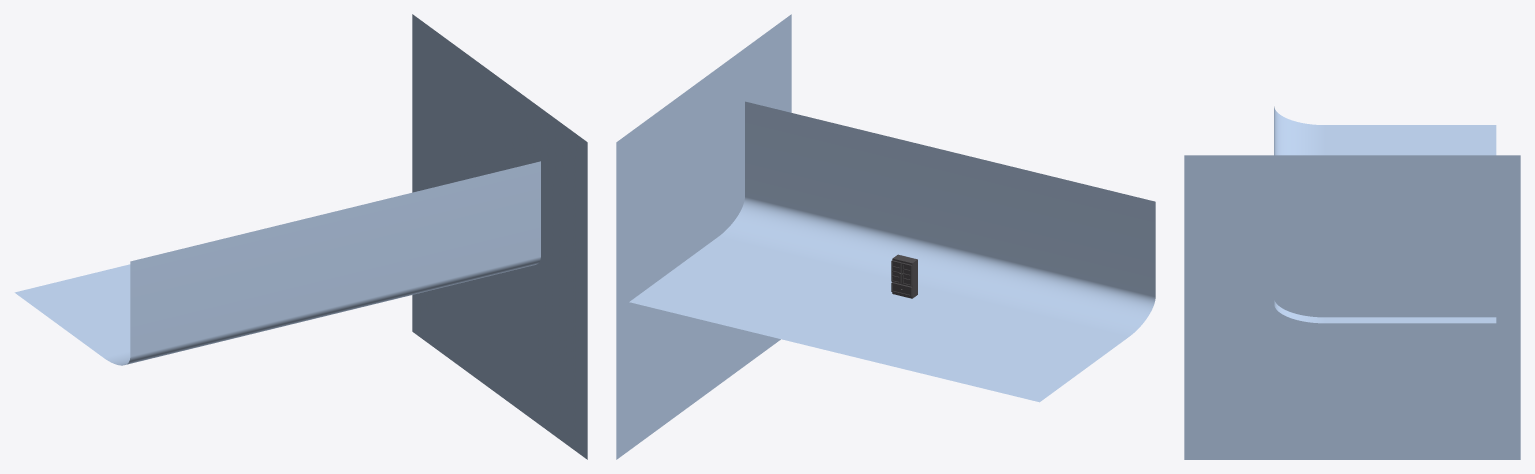
The model's file is BSC_Wardrobe_closet_low_poly.glb.
The picture shows the model from 3 angles, left to right: view 1: azimuth 30°, elevation 25°; view 2: azimuth 150°, elevation 25°; view 3: azimuth 270°, elevation 25°; orthographic projection. The views are drawn at different scales.
Parts seen in each view (by area): view 1: Background 1, Background side 2; view 2: Background 1, Background side 2, BSC_Wardrobe_closet_low_poly; view 3: Background side 2, Background 1.
Boxes of the visible parts, x1,y1,x2,y2 form: Background 1: (14,161,540,365); Background side 2: (412,14,587,459); Background 1: (629,101,1155,402); Background side 2: (616,14,791,459); BSC_Wardrobe_closet_low_poly: (891,254,917,298); Background side 2: (1184,155,1520,459); Background 1: (1274,106,1496,323).
Bounding box in the file's own units: 21.25 × 15.24 × 15.24.
